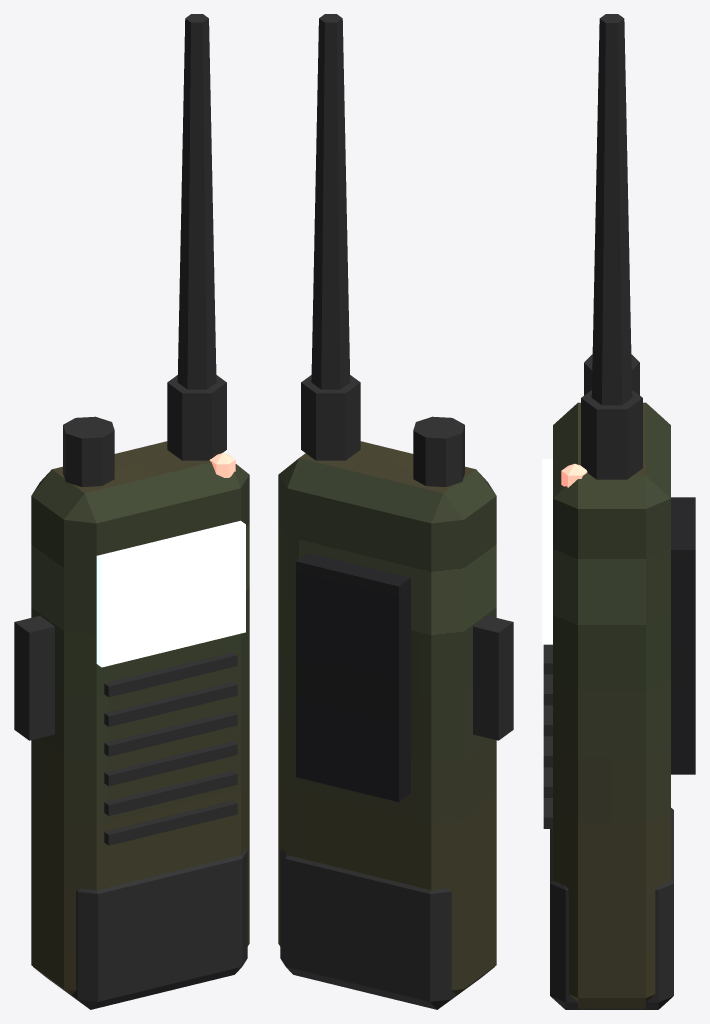
The model's file is walkie_talkie.glb.
The picture shows the model from 3 angles, left to right: view 1: azimuth 30°, elevation 25°; view 2: azimuth 150°, elevation 25°; view 3: azimuth 270°, elevation 25°; orthographic projection. The views are drawn at different scales.
Parts seen in each view (by area): view 1: walkie_talkie; view 2: walkie_talkie; view 3: walkie_talkie.
Boxes of the visible parts, bbox=[...] form: walkie_talkie: bbox=[14, 14, 249, 1009]; walkie_talkie: bbox=[278, 14, 513, 1009]; walkie_talkie: bbox=[542, 14, 695, 1009].
Bounding box in the file's own units: 0.082 × 0.35 × 0.0495.
Materials: 5 (2 with a texture image).
